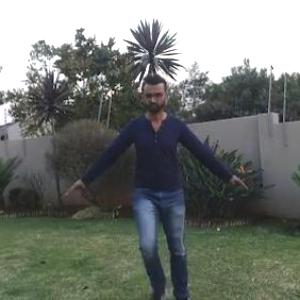land: (85, 40, 236, 294)
